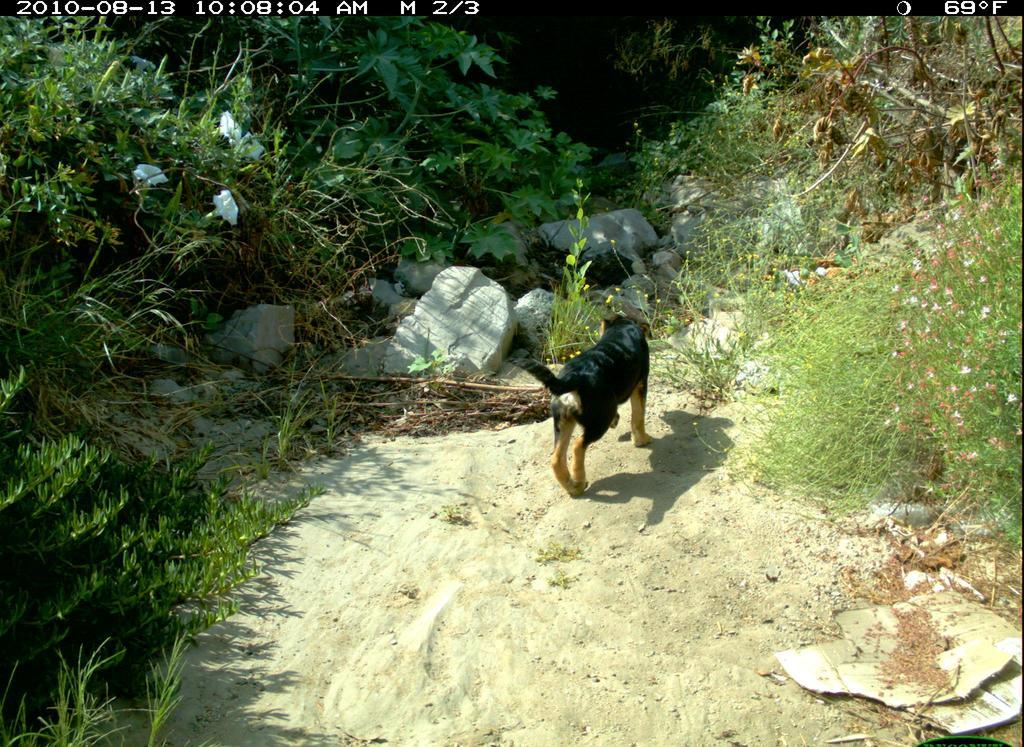dog: (511, 303, 679, 509)
